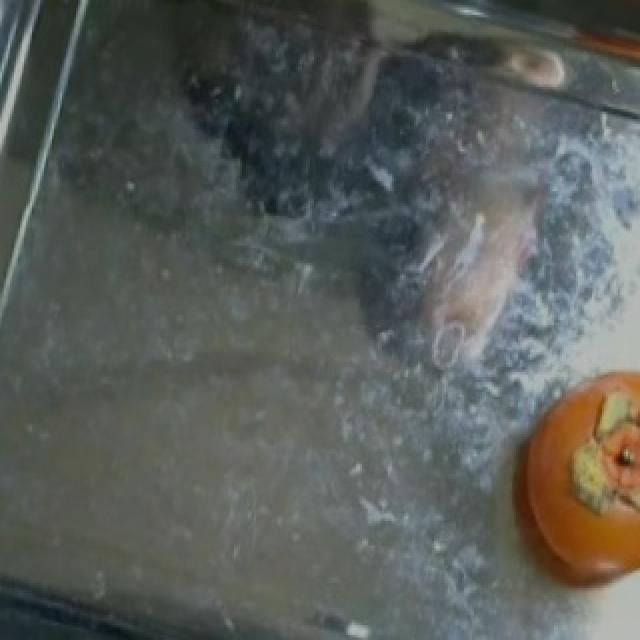Fruit: (486, 355, 638, 605)
